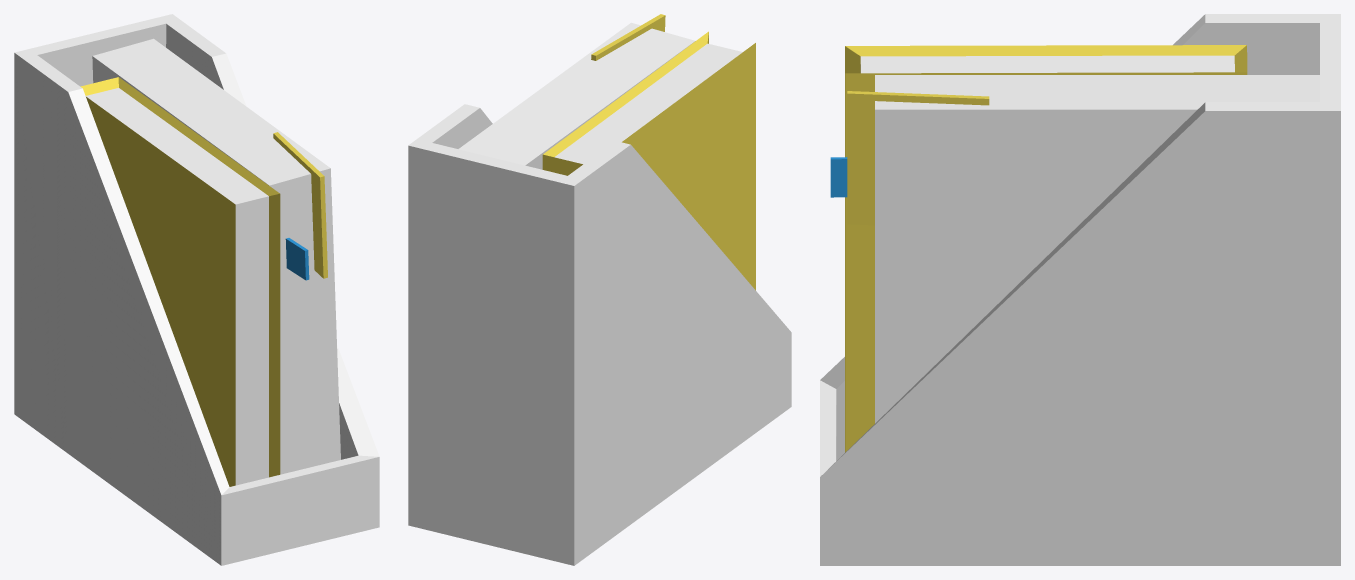
File: folder for documents.003.fbx
3 renders of one model, left to right at view 1: azimuth 30°, elevation 25°; view 2: azimuth 150°, elevation 25°; view 3: azimuth 270°, elevation 25°, orthographic. The views are drawn at different scales.
Visible parts, largest first — view 1: folder for documents.003; view 2: folder for documents.003; view 3: folder for documents.003.
Part boxes in pixels (left/top/right/bottom): folder for documents.003: left=14, top=14, right=379, bottom=565; folder for documents.003: left=408, top=14, right=791, bottom=565; folder for documents.003: left=820, top=14, right=1340, bottom=565.
Bounding box in the file's own units: 0.2678 × 0.5853 × 0.6075.
Materials: 1 (1 with a texture image).
